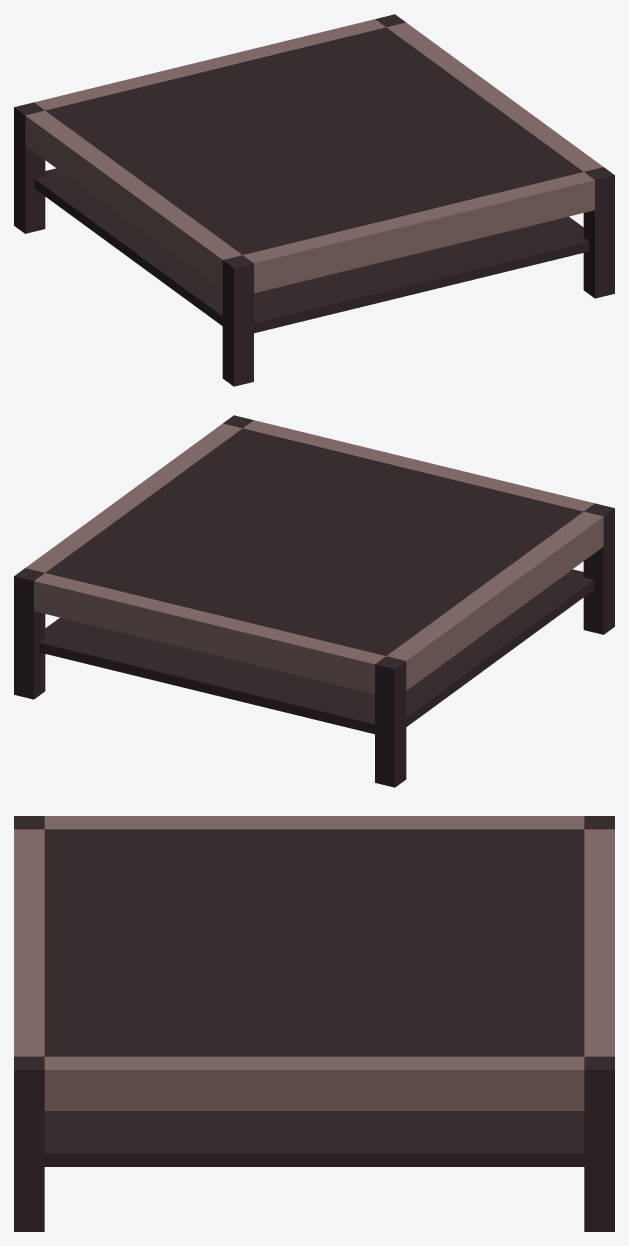
The model's file is Prop_Table_13.fbx.
3 renders of one model, top to bottom at view 1: azimuth 30°, elevation 25°; view 2: azimuth 150°, elevation 25°; view 3: azimuth 270°, elevation 25°, orthographic. The views are drawn at different scales.
Visible parts, largest first — view 1: Prop_Table_13; view 2: Prop_Table_13; view 3: Prop_Table_13.
Boxes of the visible parts, box(x1,y1,x2,y2) form: Prop_Table_13: box(14, 14, 614, 386); Prop_Table_13: box(14, 415, 614, 787); Prop_Table_13: box(14, 816, 614, 1231).
Size of the model in its own units: 200 by 59.39 by 200.
